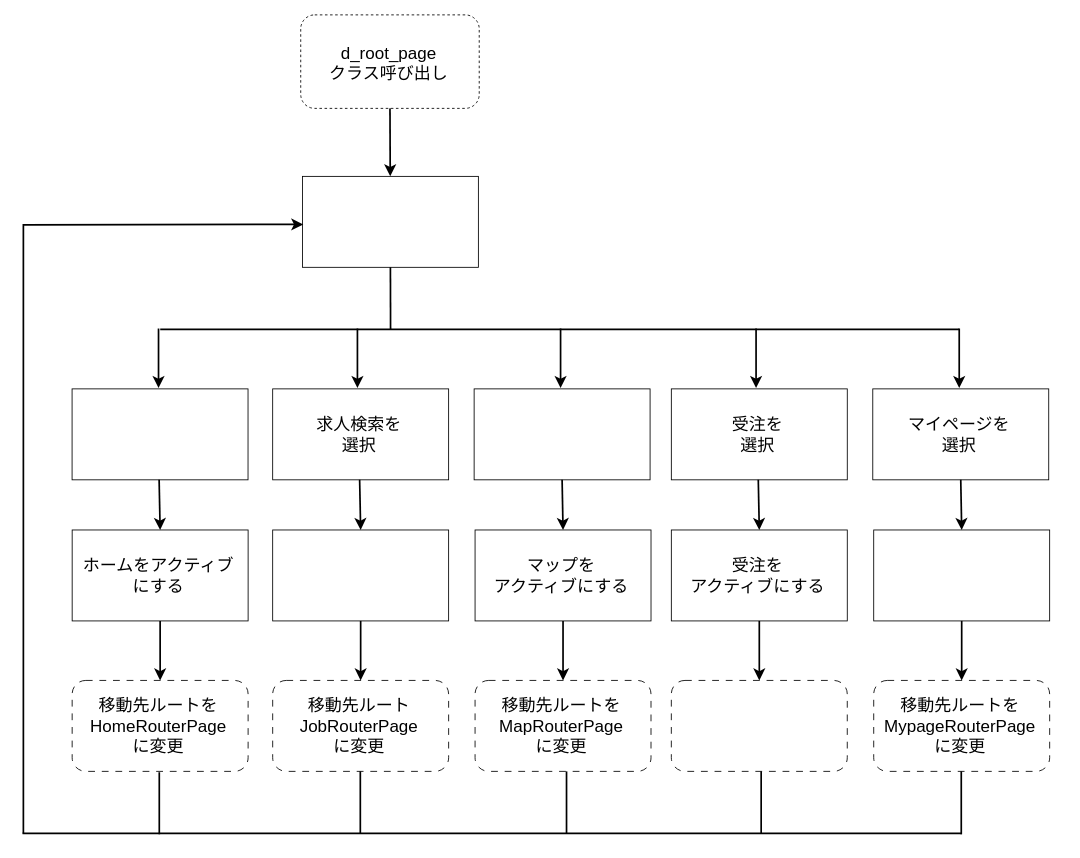
The diagram is 1080 pixels wide and 858 high, and some of its shapes have lost their labels. Here are the shapes that lost their labels. From the top down, the centre of each, then its label:
At point (390, 221): "ボトムアッパー バー を表示".
At point (159, 434): "ホームアイコンを 選択".
At point (561, 434): "マップを 選択".
At point (360, 575): "求人検索を アクティブにする".
At point (961, 575): "マイページを アクティブにする".
At point (758, 725): "移動先ルートを HistoryRouterPage に変更".
